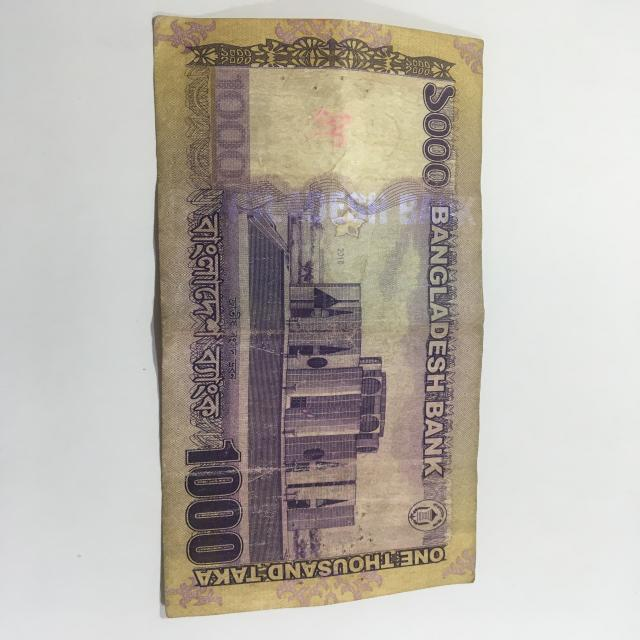Taka: (142, 9, 478, 611)
